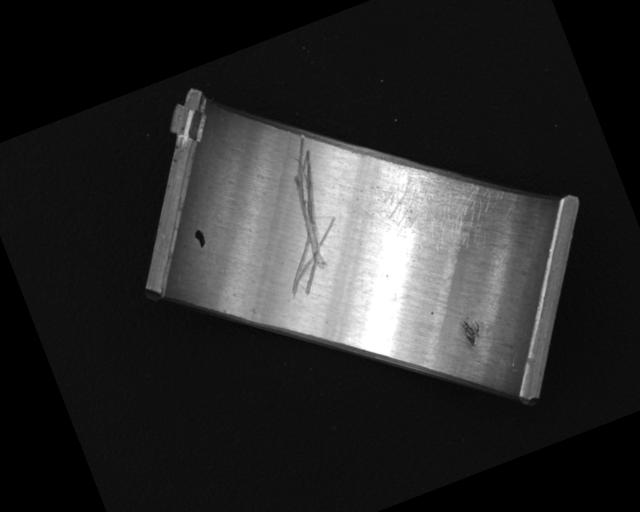blot: (190, 226, 208, 250)
bruise: (456, 314, 486, 349)
nick: (237, 128, 358, 300)
scratch: (365, 136, 526, 276)
